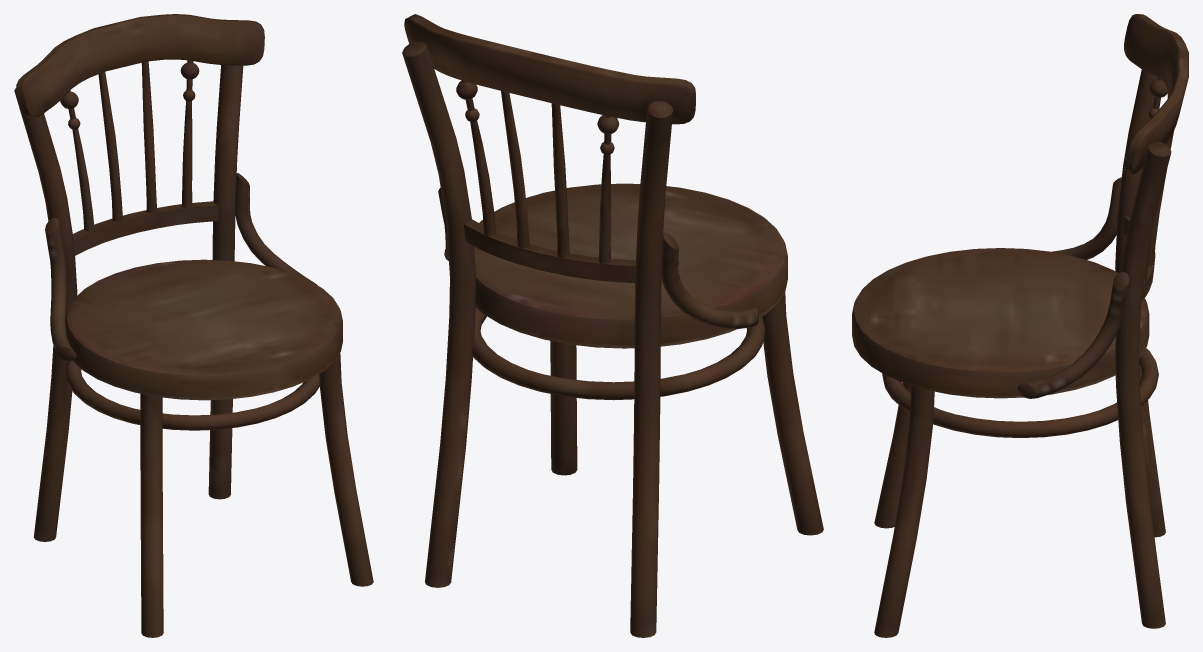
The model's file is SM_Chair01_0cefb1.glb.
3 renders of one model, left to right at view 1: azimuth 30°, elevation 25°; view 2: azimuth 150°, elevation 25°; view 3: azimuth 270°, elevation 25°, orthographic. The views are drawn at different scales.
Bounding box in the file's own units: 0.5941 × 1.05 × 0.6232.
1 material, 1 textured.
